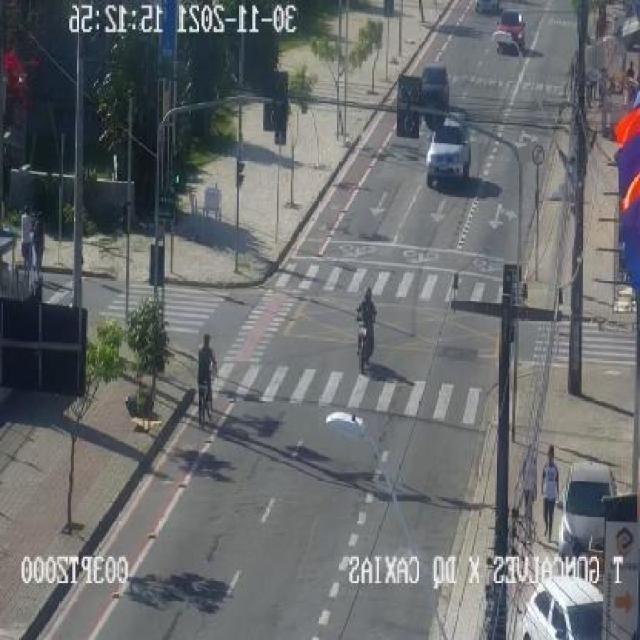Car: (501, 555, 608, 635), (553, 451, 623, 548), (419, 111, 480, 203), (409, 56, 456, 118), (486, 12, 534, 57)
Cycle: (352, 277, 382, 375)
